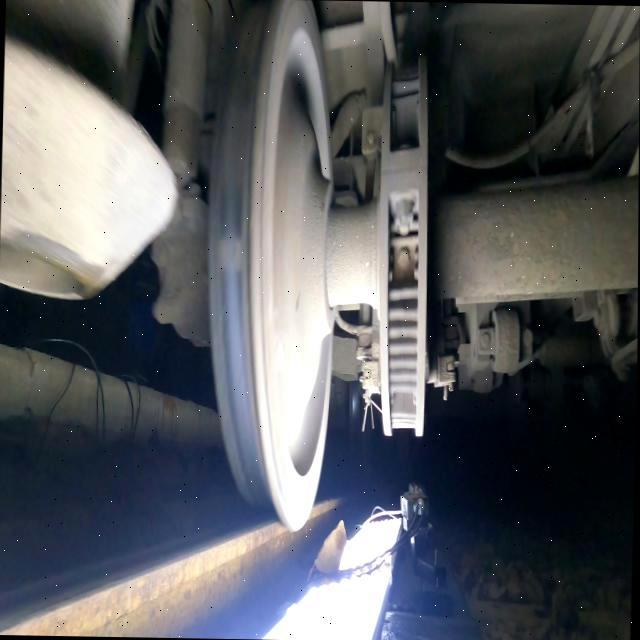Discoloration: (218, 272, 246, 337), (217, 185, 244, 237)
Shelling: (214, 105, 252, 183), (233, 14, 268, 74), (218, 235, 245, 273)
Wheel: (208, 0, 334, 531)
